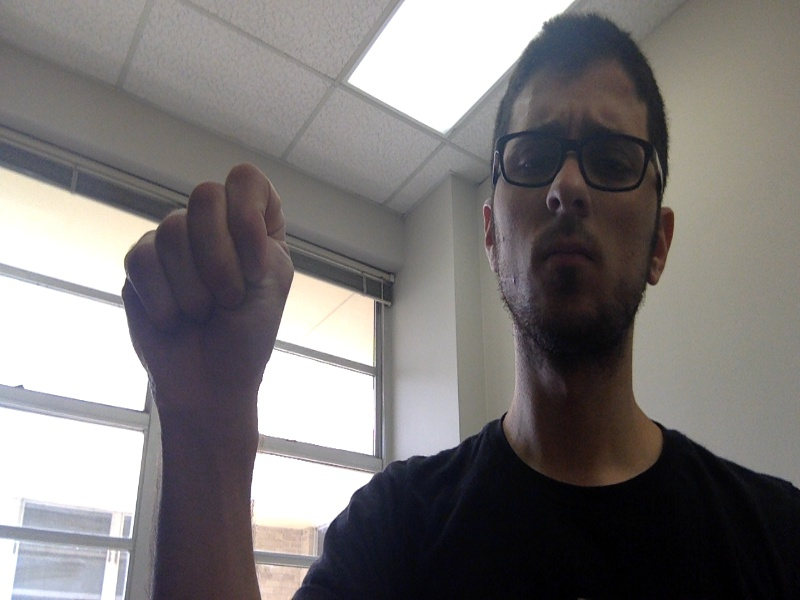0-hand: (126, 165, 292, 379)
